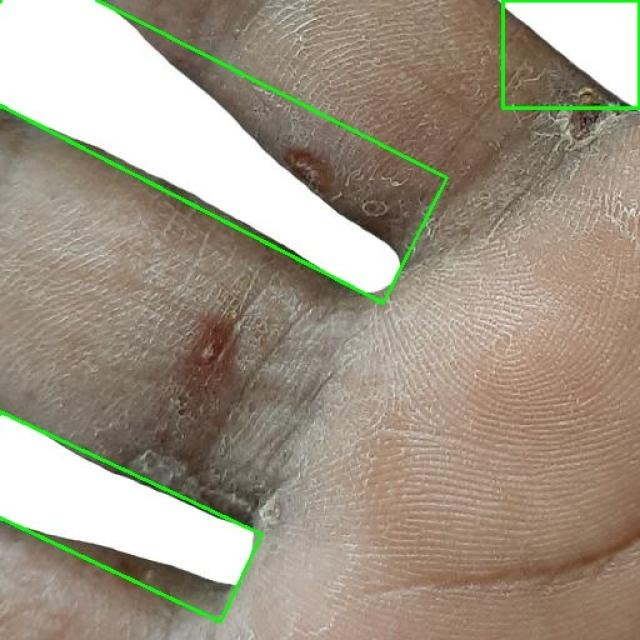Scabies: (0, 0, 452, 303), (0, 395, 267, 622), (502, 0, 639, 108)
